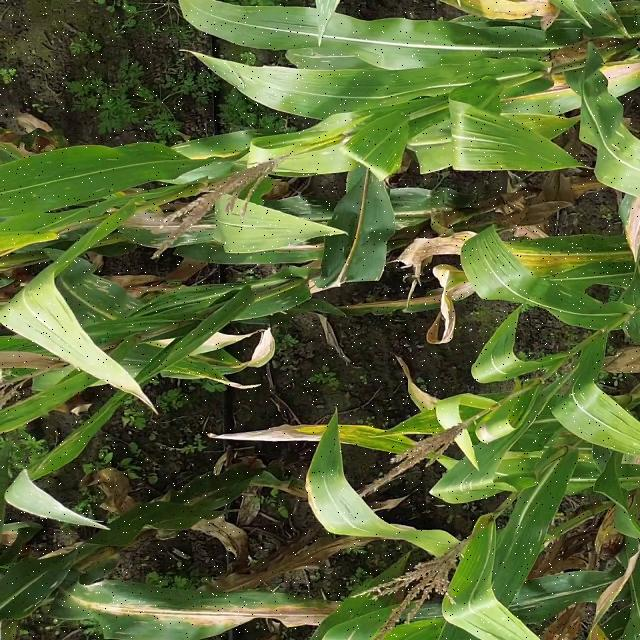gray-leaf-spot: (44, 154, 140, 200), (68, 270, 146, 320), (584, 88, 635, 154), (515, 582, 606, 613), (387, 185, 468, 217), (16, 573, 74, 617), (278, 193, 348, 224), (412, 401, 476, 434), (258, 286, 304, 318), (148, 229, 216, 250)
northern-leaf-blight: (105, 585, 300, 632), (509, 242, 640, 276), (549, 65, 640, 99)
southern-leaf-blight: (370, 70, 444, 130)
